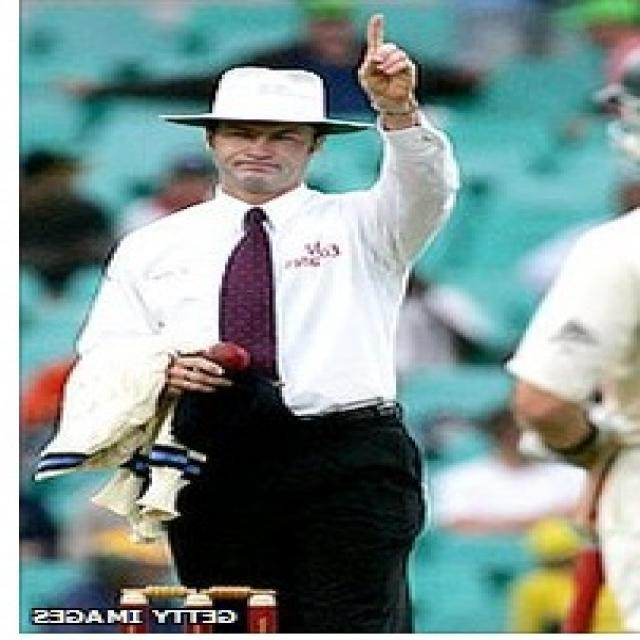Out: (47, 6, 462, 640)
